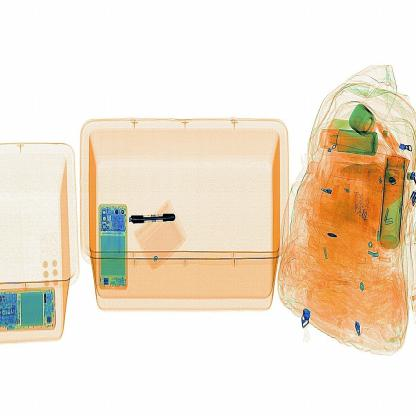knife: (121, 199, 185, 237)
